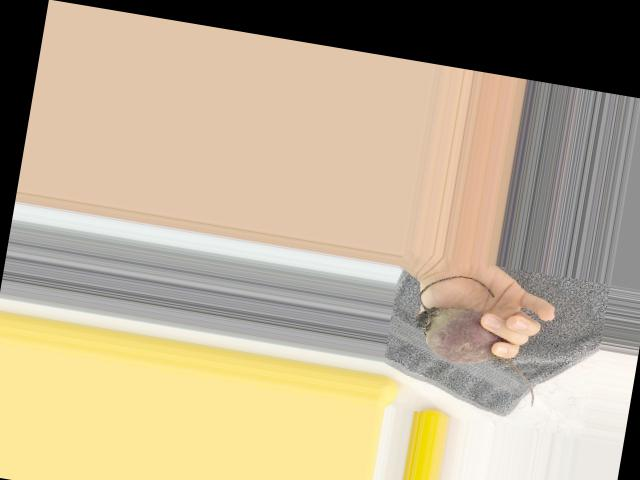beet: (406, 269, 552, 406)
